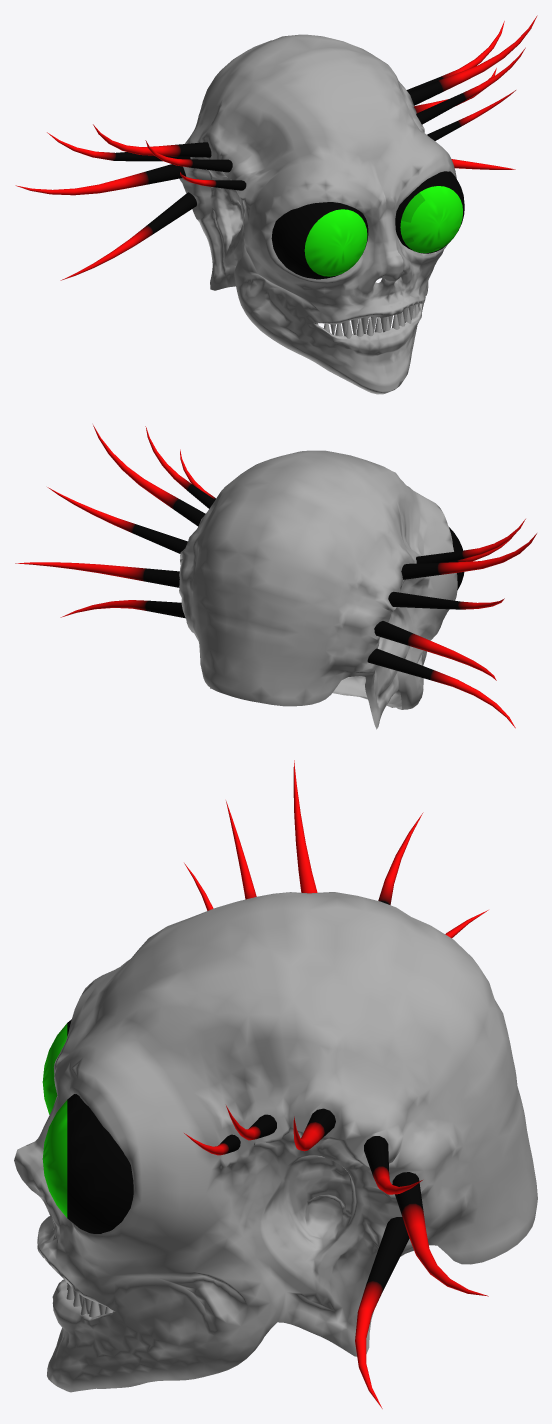
Rendered from KoboldheadV1.fbx.
3 views of the same model, one above another, from view 1: azimuth 30°, elevation 25°; view 2: azimuth 150°, elevation 25°; view 3: azimuth 270°, elevation 25° (orthographic). The views are drawn at different scales.
Visible parts, largest first — view 1: KoboldHead_UV, Horns_R, Eye_R, Eye_L, Horns_L, Teeth; view 2: KoboldHead_UV, Horns_R, Horns_L; view 3: KoboldHead_UV, Horns_L, Eye_L, Horns_R, Eye_R.
Boxes of the visible parts, left/top/right/bottom form: KoboldHead_UV: left=179, top=34, right=456, bottom=394; Horns_R: left=15, top=124, right=246, bottom=280; Eye_R: left=271, top=202, right=368, bottom=279; Eye_L: left=395, top=171, right=464, bottom=253; Horns_L: left=406, top=15, right=537, bottom=169; Teeth: left=324, top=304, right=418, bottom=338; KoboldHead_UV: left=179, top=450, right=457, bottom=729; Horns_R: left=367, top=519, right=536, bottom=728; Horns_L: left=15, top=425, right=215, bottom=618; KoboldHead_UV: left=14, top=892, right=537, bottom=1392; Horns_L: left=184, top=1105, right=488, bottom=1408; Eye_L: left=42, top=1094, right=133, bottom=1233; Horns_R: left=184, top=760, right=488, bottom=938; Eye_R: left=42, top=1019, right=71, bottom=1114.
Size of the model in its own units: 3.45 by 2 by 1.97.
